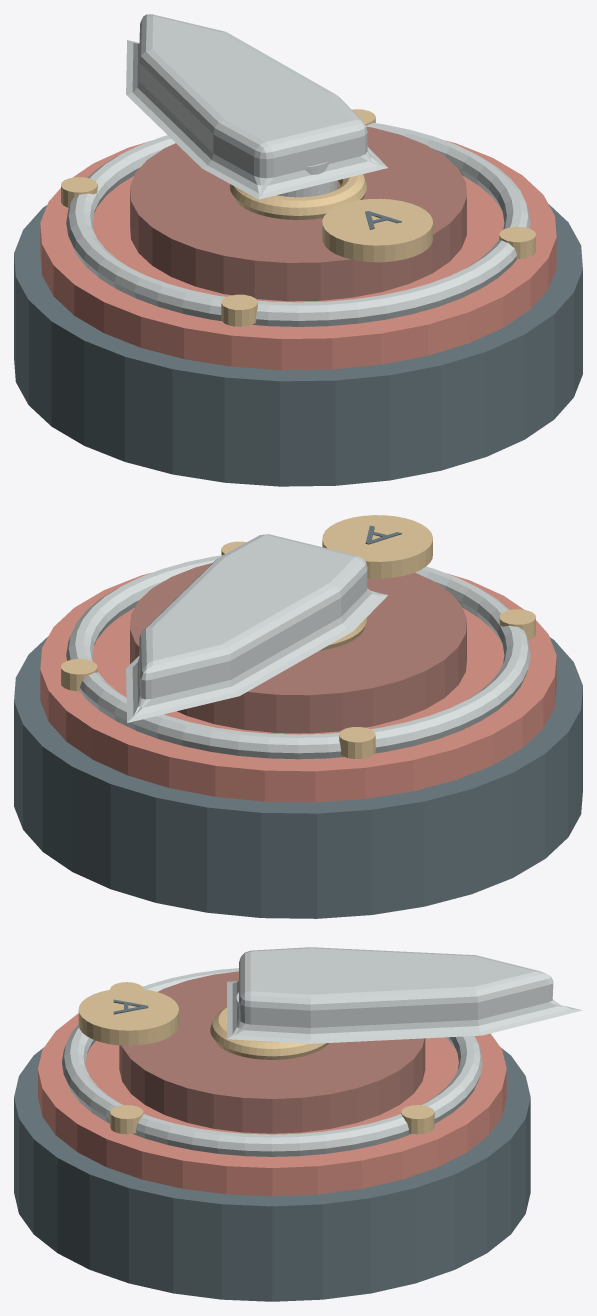
Rendered from diverter_module.fbx.
3 views of the same model, one above another, from view 1: azimuth 30°, elevation 25°; view 2: azimuth 150°, elevation 25°; view 3: azimuth 270°, elevation 25° (orthographic). The views are drawn at different scales.
Visible parts, largest first — view 1: ASSET_DIVERTER_BaseFoot, ASSET_DIVERTER_BasePaint, ASSET_DIVERTER_RotatingPlate, ASSET_DIVERTER_RoutingArm, ASSET_DIVERTER_OuterRing, ASSET_DIVERTER_GroupBadge, ASSET_DIVERTER_PivotRing, ASSET_DIVERTER_Fastener_180, ASSET_DIVERTER_Fastener_270, ASSET_DIVERTER_Fastener_90, ASSET_DIVERTER_PivotPin; view 2: ASSET_DIVERTER_BaseFoot, ASSET_DIVERTER_BasePaint, ASSET_DIVERTER_RoutingArm, ASSET_DIVERTER_RotatingPlate, ASSET_DIVERTER_OuterRing, ASSET_DIVERTER_GroupBadge, ASSET_DIVERTER_Fastener_90, ASSET_DIVERTER_Fastener_0, ASSET_DIVERTER_Fastener_180; view 3: ASSET_DIVERTER_BaseFoot, ASSET_DIVERTER_BasePaint, ASSET_DIVERTER_RoutingArm, ASSET_DIVERTER_RotatingPlate, ASSET_DIVERTER_OuterRing, ASSET_DIVERTER_GroupBadge, ASSET_DIVERTER_PivotRing, ASSET_DIVERTER_Fastener_0, ASSET_DIVERTER_Fastener_270.
Boxes of the visible parts, x1,y1,x2,y2 form: ASSET_DIVERTER_BaseFoot: [14, 204, 582, 486]; ASSET_DIVERTER_BasePaint: [40, 140, 556, 370]; ASSET_DIVERTER_RotatingPlate: [130, 126, 466, 301]; ASSET_DIVERTER_RoutingArm: [126, 14, 387, 199]; ASSET_DIVERTER_OuterRing: [66, 122, 530, 326]; ASSET_DIVERTER_GroupBadge: [322, 198, 432, 262]; ASSET_DIVERTER_PivotRing: [230, 174, 366, 219]; ASSET_DIVERTER_Fastener_180: [221, 294, 257, 326]; ASSET_DIVERTER_Fastener_270: [499, 226, 535, 258]; ASSET_DIVERTER_Fastener_90: [61, 177, 97, 207]; ASSET_DIVERTER_PivotPin: [277, 161, 337, 197]; ASSET_DIVERTER_BaseFoot: [14, 636, 582, 918]; ASSET_DIVERTER_BasePaint: [40, 572, 556, 802]; ASSET_DIVERTER_RoutingArm: [126, 534, 387, 722]; ASSET_DIVERTER_RotatingPlate: [130, 563, 466, 733]; ASSET_DIVERTER_OuterRing: [66, 555, 530, 759]; ASSET_DIVERTER_GroupBadge: [322, 515, 432, 578]; ASSET_DIVERTER_Fastener_90: [339, 727, 375, 758]; ASSET_DIVERTER_Fastener_0: [61, 659, 97, 691]; ASSET_DIVERTER_Fastener_180: [499, 609, 535, 639]; ASSET_DIVERTER_BaseFoot: [14, 1047, 530, 1301]; ASSET_DIVERTER_BasePaint: [38, 986, 506, 1196]; ASSET_DIVERTER_RoutingArm: [227, 947, 582, 1043]; ASSET_DIVERTER_RotatingPlate: [119, 971, 425, 1133]; ASSET_DIVERTER_OuterRing: [62, 968, 482, 1156]; ASSET_DIVERTER_GroupBadge: [78, 988, 178, 1045]; ASSET_DIVERTER_PivotRing: [210, 1007, 328, 1059]; ASSET_DIVERTER_Fastener_0: [401, 1105, 434, 1134]; ASSET_DIVERTER_Fastener_270: [110, 1105, 143, 1134].
Bounding box in the file's own units: 108 × 51 × 119.
